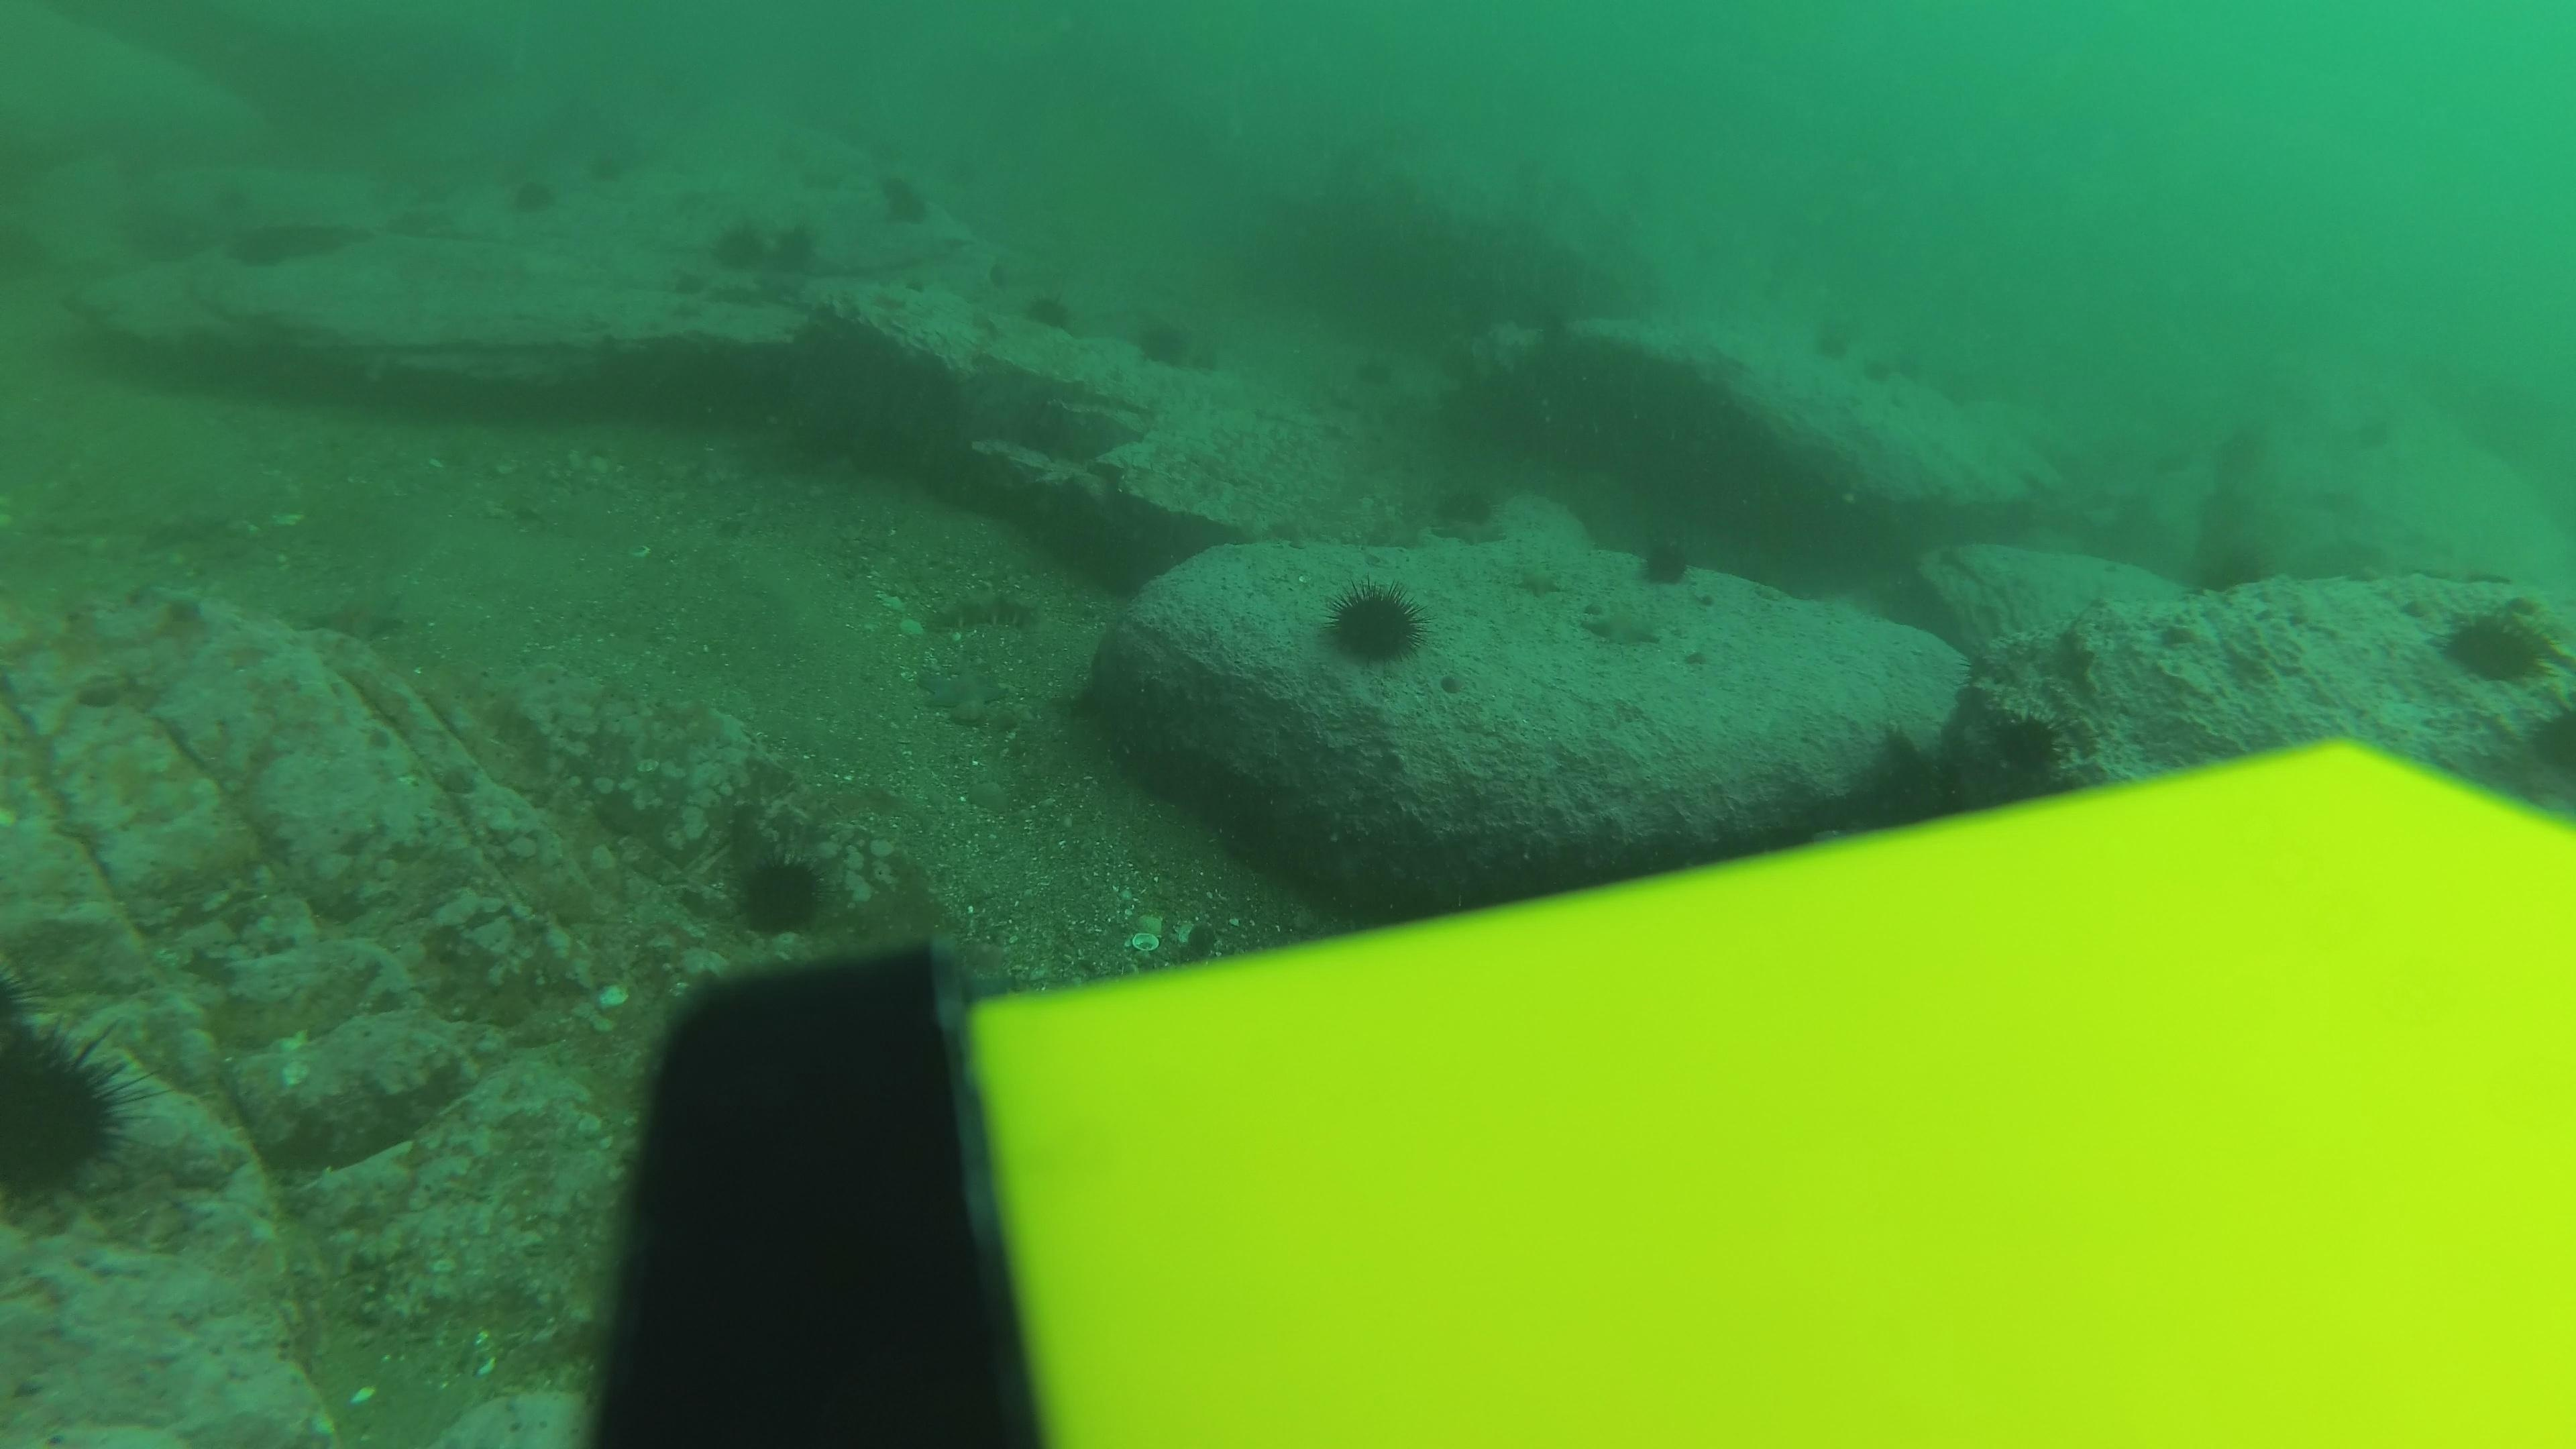echinus: (2, 1008, 145, 1212), (2433, 594, 2564, 690), (1316, 577, 1431, 672), (725, 846, 837, 941), (1978, 706, 2079, 786), (2181, 527, 2273, 600), (2194, 419, 2286, 492), (2187, 478, 2277, 550), (1001, 283, 1092, 350), (1424, 476, 1509, 547), (1628, 527, 1700, 593), (1131, 311, 1201, 373), (694, 211, 766, 269), (770, 216, 842, 274), (225, 221, 295, 280), (499, 170, 563, 225), (205, 177, 262, 223), (573, 145, 630, 189), (943, 154, 989, 191), (888, 195, 934, 230), (878, 172, 924, 207), (853, 131, 899, 166), (1854, 356, 1900, 391), (1812, 333, 1858, 368), (1817, 311, 1863, 347), (1348, 347, 1394, 382), (1430, 343, 1476, 379), (1525, 308, 1571, 343), (1897, 350, 1941, 386), (2351, 419, 2396, 455)
holothurian: (922, 582, 1065, 644), (2498, 600, 2576, 676)
starfish: (297, 586, 410, 644), (913, 656, 1007, 725), (1575, 600, 1670, 653), (1426, 515, 1514, 559), (1514, 566, 1566, 605)
